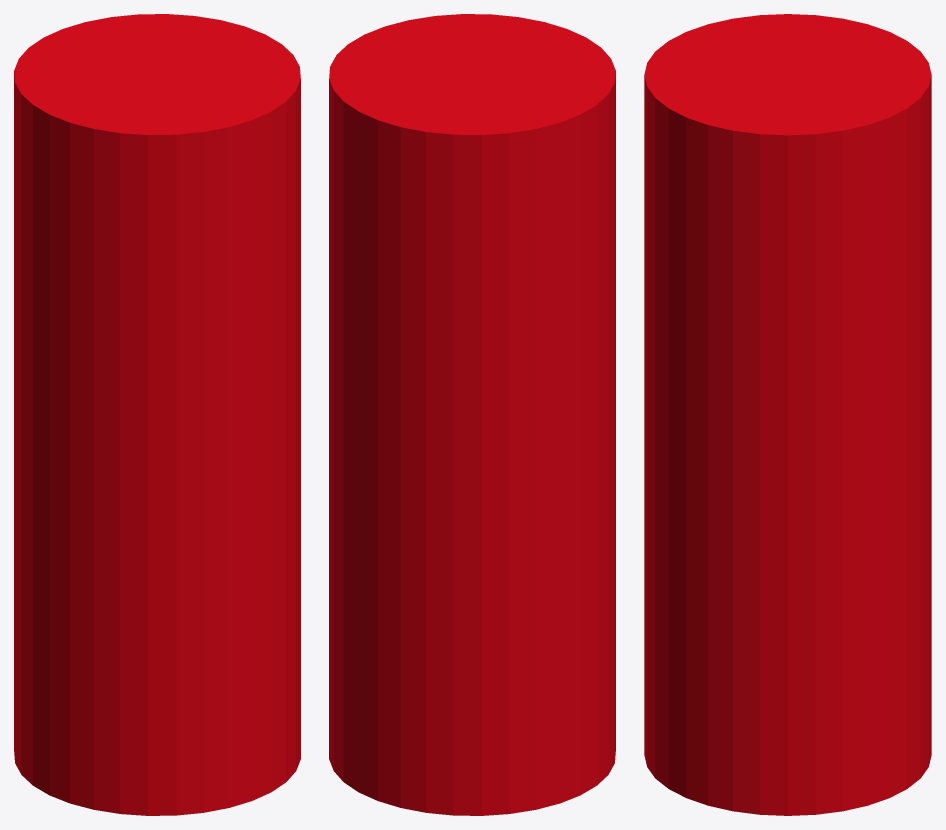
File: bullet.gltf
3 views of the same model, side by side, from view 1: azimuth 30°, elevation 25°; view 2: azimuth 150°, elevation 25°; view 3: azimuth 270°, elevation 25° (orthographic).
Parts seen in each view (by area): view 1: Cylinder; view 2: Cylinder; view 3: Cylinder.
Part boxes in pixels (<box>): Cylinder: <box>14,14,300,815</box>; Cylinder: <box>329,14,615,815</box>; Cylinder: <box>644,14,931,815</box>.
Bounding box in the file's own units: 0.32 × 0.8368 × 0.32.
